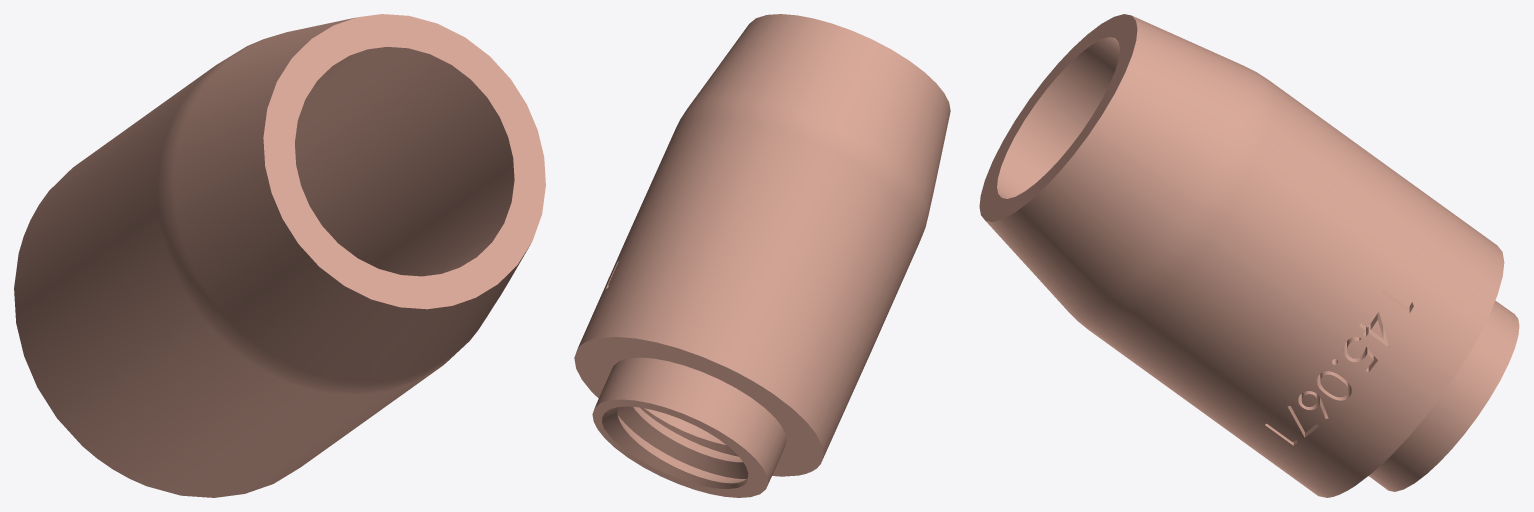
The model's file is Body28.dae.
The picture shows the model from 3 angles, left to right: view 1: azimuth 30°, elevation 25°; view 2: azimuth 150°, elevation 25°; view 3: azimuth 270°, elevation 25°; orthographic projection. The views are drawn at different scales.
Visible parts, largest first — view 1: Body28; view 2: Body28; view 3: Body28.
Boxes of the visible parts, x1=… form: Body28: x1=14, y1=14, x2=545, y2=497; Body28: x1=574, y1=14, x2=950, y2=497; Body28: x1=979, y1=14, x2=1519, y2=497.
Size of the model in its own units: 2.22 by 3.86 by 3.56.
